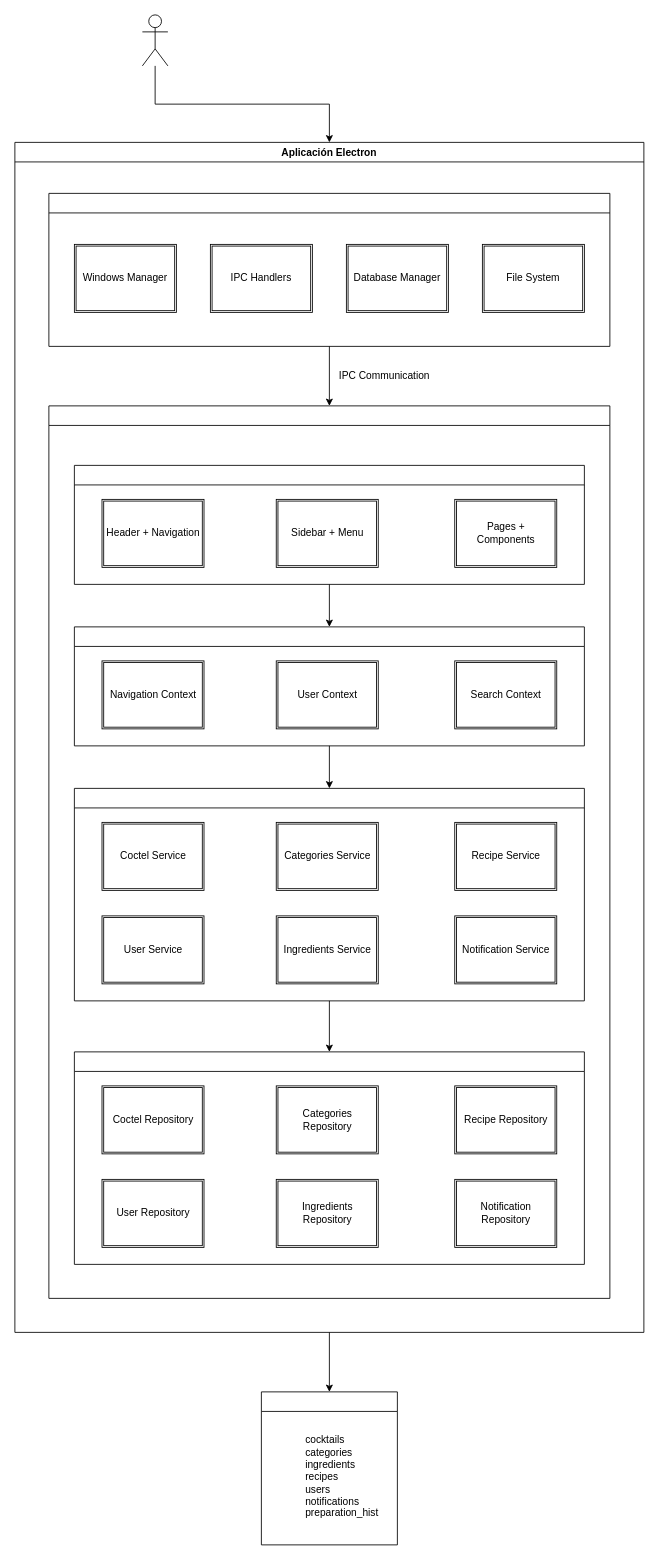
The diagram is 659 pixels wide and 1560 high, and some of its shapes have lost their labels. The shapes that lost their labels are listed below. From the top down, each one's box as (x1, y1, x2, y2) in pixels, then its label:
(142, 14, 168, 66): Usuario
(48, 193, 610, 346): Main Process (Node.js)
(74, 465, 584, 584): UI Layer (View)
(74, 626, 584, 746): Context & State Management
(48, 405, 610, 1298): Renderer Process (React)
(74, 788, 584, 1001): Business Logic Layer
(74, 1051, 584, 1264): Data Acces Layer
(261, 1391, 397, 1545): Database SQLite
